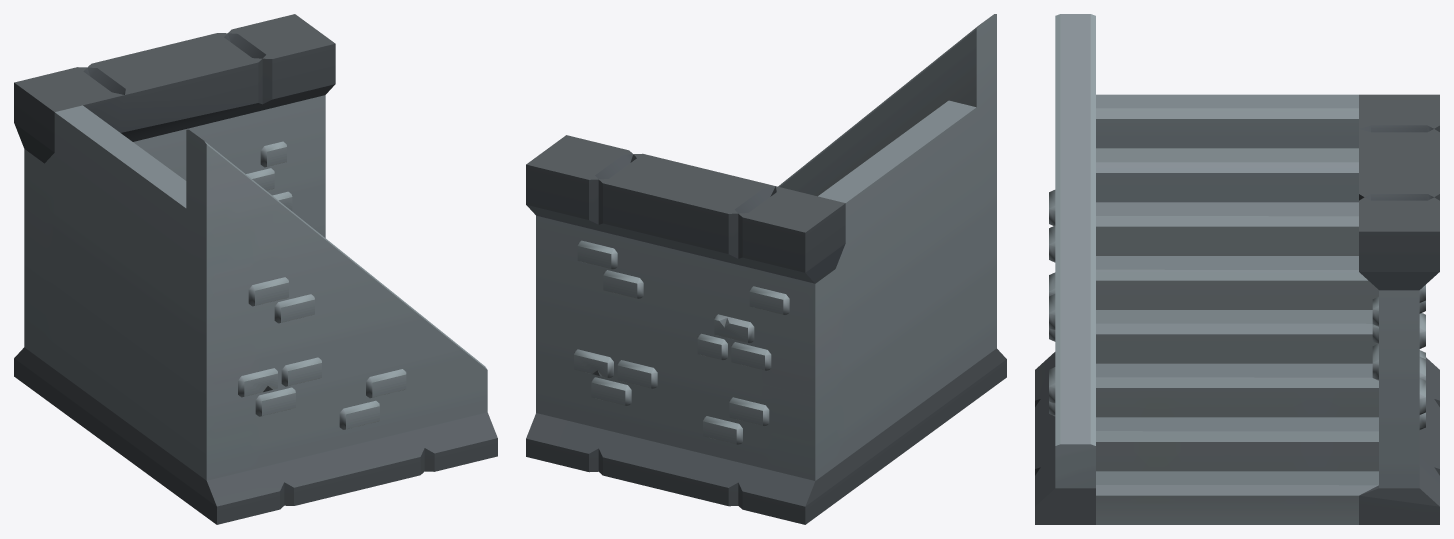
The model's file is stairs_wall_left.glb.
The picture shows the model from 3 angles, left to right: view 1: azimuth 30°, elevation 25°; view 2: azimuth 150°, elevation 25°; view 3: azimuth 270°, elevation 25°; orthographic projection.
Visible parts, largest first — view 1: stairs_wall_left; view 2: stairs_wall_left; view 3: stairs_wall_left.
Boxes of the visible parts, x1,y1,x2,y2 form: stairs_wall_left: (14,14,497,524); stairs_wall_left: (526,14,1006,524); stairs_wall_left: (1035,14,1439,524).
Size of the model in its own units: 4 by 5.1 by 5.
1 material, 1 textured.
